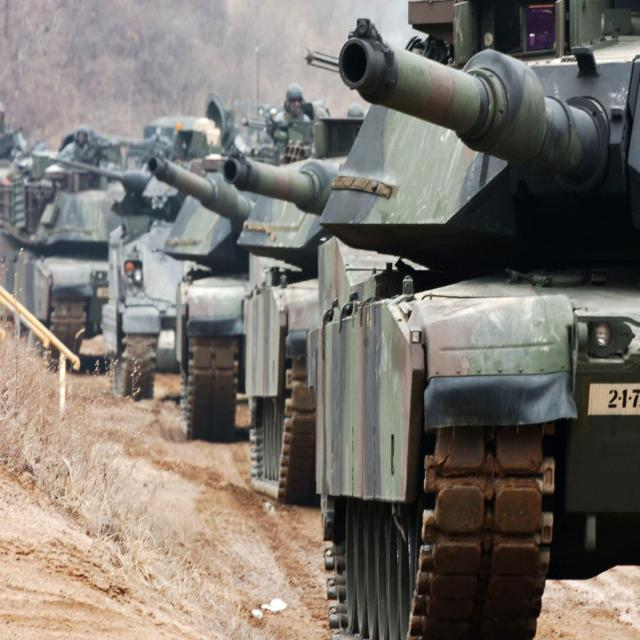Tanks: (203, 42, 572, 621), (81, 94, 294, 549), (8, 54, 150, 440)
